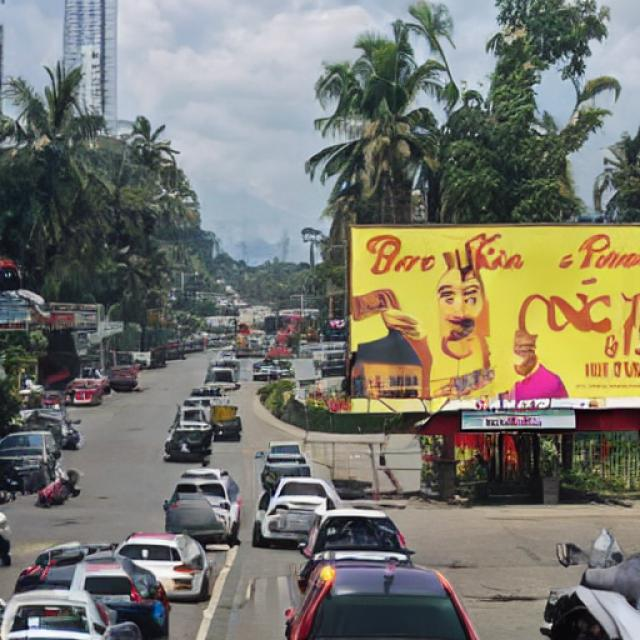Billboard: (347, 223, 640, 411)
